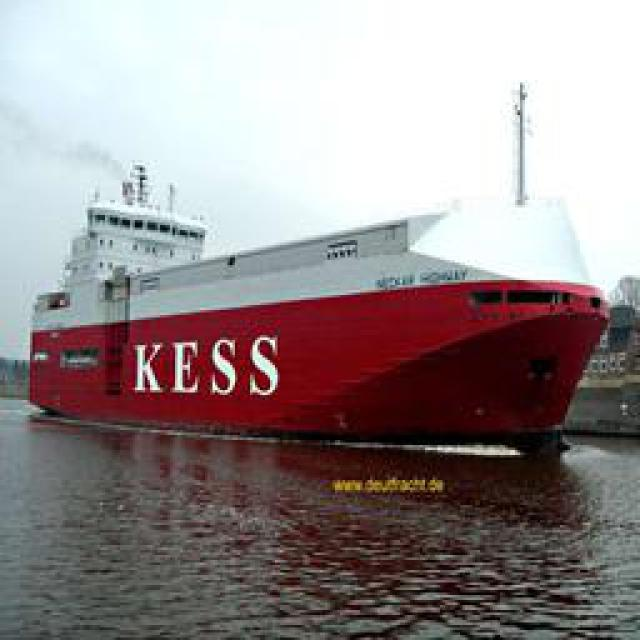Ship: (35, 177, 610, 440)
